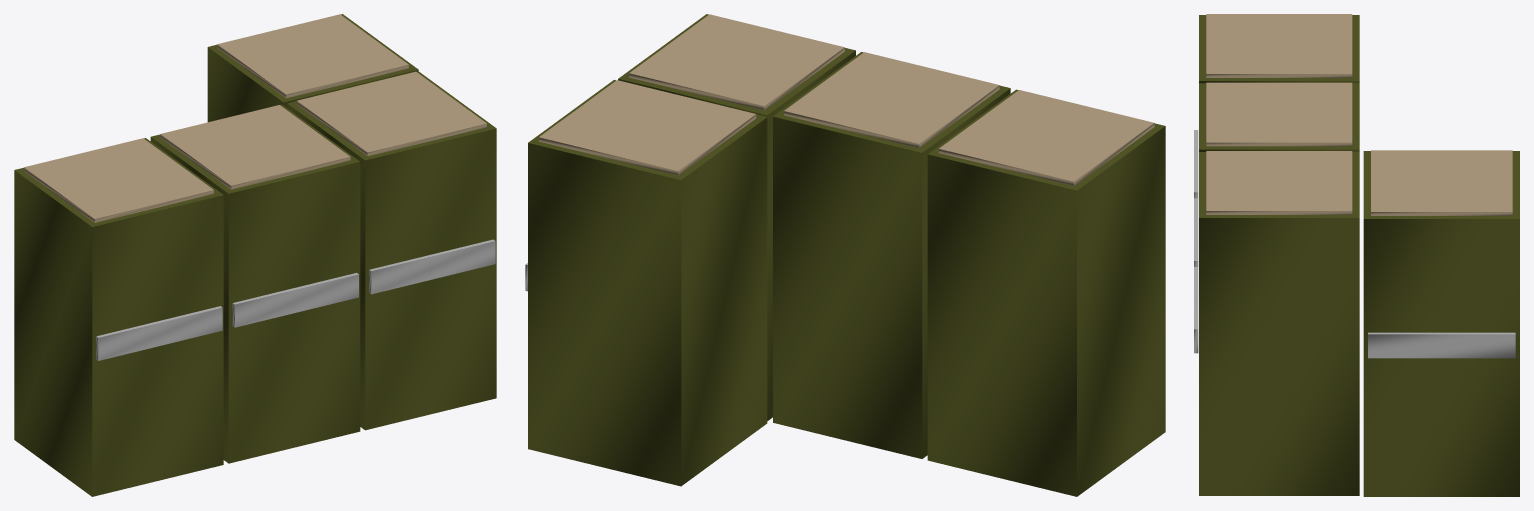
Rendered from SM_HescoRemateEspejo_v1_Geotextil_e0_Sano_LOD1.fbx.
The picture shows the model from 3 angles, left to right: view 1: azimuth 30°, elevation 25°; view 2: azimuth 150°, elevation 25°; view 3: azimuth 270°, elevation 25°; orthographic projection. The views are drawn at different scales.
Parts seen in each view (by area): view 1: SM_hesco_piezas_v24_LOD1; view 2: SM_hesco_piezas_v24_LOD1; view 3: SM_hesco_piezas_v24_LOD1.
Boxes of the visible parts, bbox=[...] form: SM_hesco_piezas_v24_LOD1: bbox=[14, 14, 496, 496]; SM_hesco_piezas_v24_LOD1: bbox=[525, 14, 1165, 496]; SM_hesco_piezas_v24_LOD1: bbox=[1194, 14, 1519, 496].
Size of the model in its own units: 3.34 by 2.13 by 2.23.
